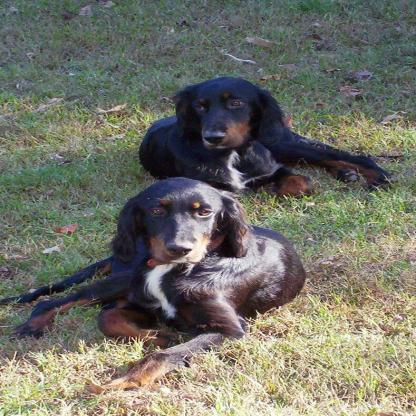Gordon_setter: (0, 177, 306, 399), (134, 75, 395, 198)
